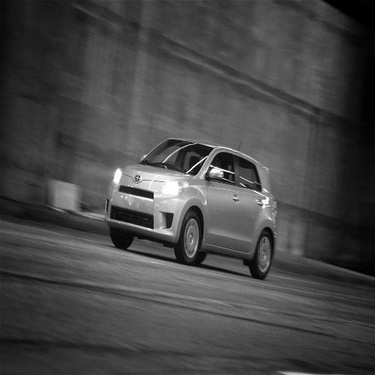car: (100, 122, 282, 285)
